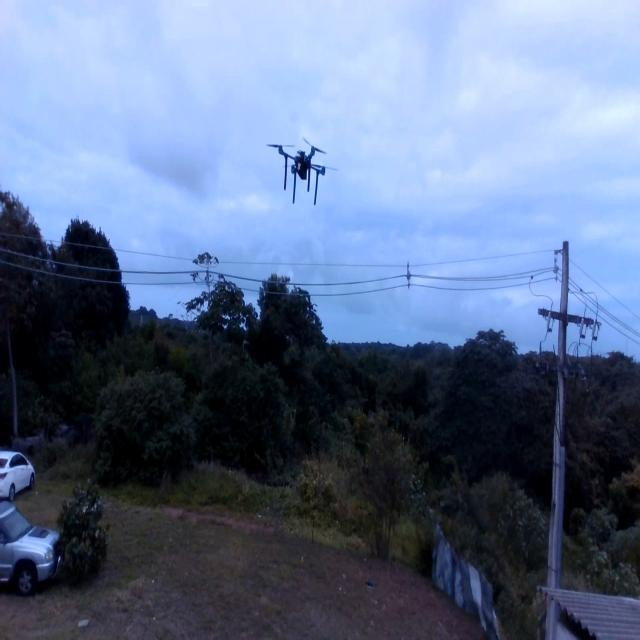-uav-: (266, 122, 336, 224)
